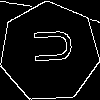U: (24, 27, 72, 65)
